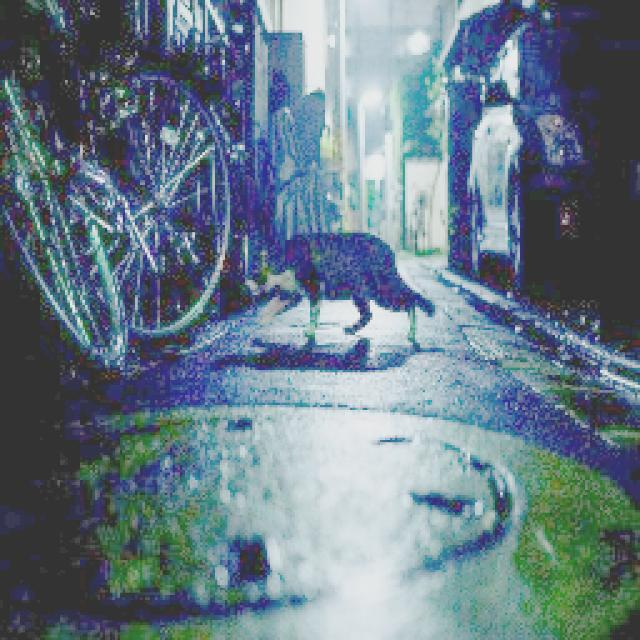cat: (238, 224, 438, 362)
